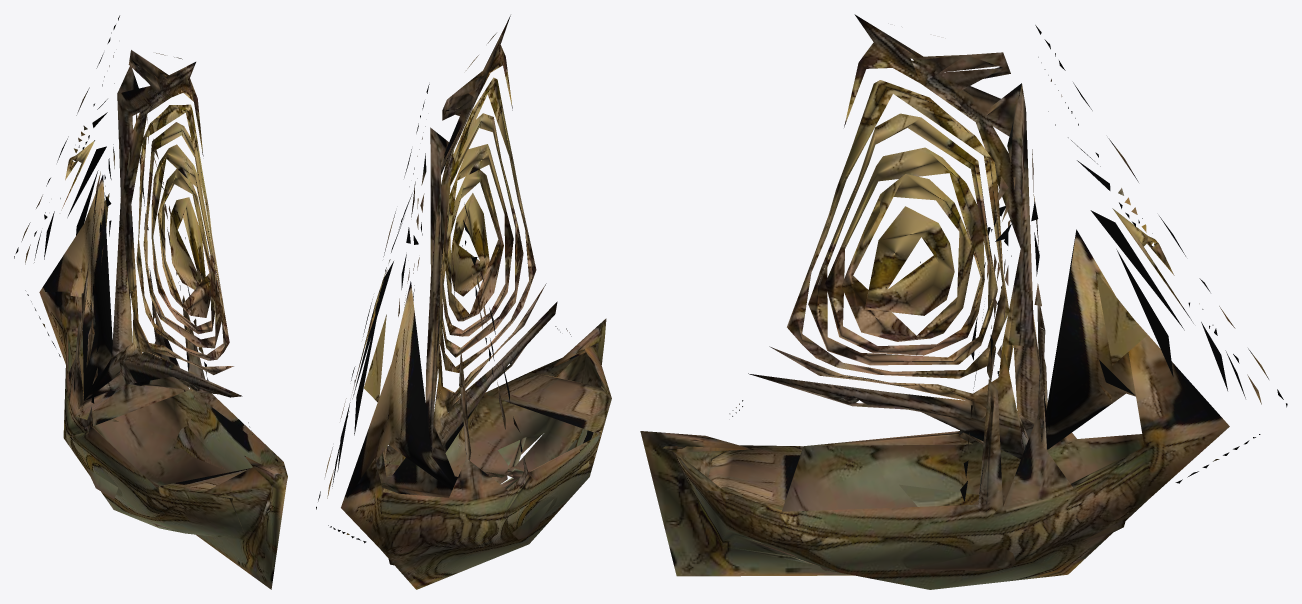
The model's file is demo_sailboat_mucha.glb.
3 renders of one model, left to right at view 1: azimuth 30°, elevation 25°; view 2: azimuth 150°, elevation 25°; view 3: azimuth 270°, elevation 25°, orthographic. The views are drawn at different scales.
Parts seen in each view (by area): view 1: tripo_node_569f0578-c306-481d-85af-b335b47cf64b.001; view 2: tripo_node_569f0578-c306-481d-85af-b335b47cf64b.001; view 3: tripo_node_569f0578-c306-481d-85af-b335b47cf64b.001.
Boxes of the visible parts, x1=… form: tripo_node_569f0578-c306-481d-85af-b335b47cf64b.001: x1=14, y1=15, x2=287, y2=589; tripo_node_569f0578-c306-481d-85af-b335b47cf64b.001: x1=316, y1=15, x2=611, y2=589; tripo_node_569f0578-c306-481d-85af-b335b47cf64b.001: x1=640, y1=14, x2=1287, y2=589.
Bounding box in the file's own units: 0.2678 × 0.9235 × 0.9635.
Materials: 1 (1 with a texture image).
